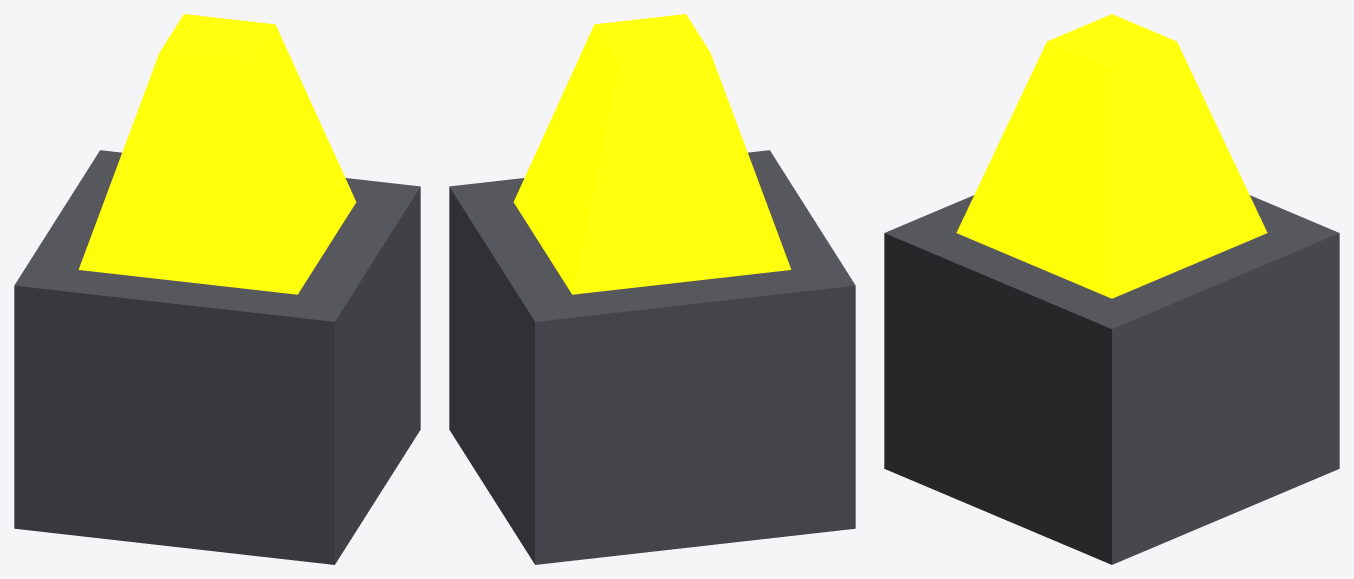
File: tower_buff_lod2.glb
3 views of the same model, side by side, from view 1: azimuth 30°, elevation 25°; view 2: azimuth 150°, elevation 25°; view 3: azimuth 270°, elevation 25° (orthographic). The views are drawn at different scales.
Parts seen in each view (by area): view 1: tower_buff_lod2; view 2: tower_buff_lod2; view 3: tower_buff_lod2.
Boxes of the visible parts, x1,y1,x2,y2 form: tower_buff_lod2: (14, 14, 420, 564); tower_buff_lod2: (449, 14, 855, 564); tower_buff_lod2: (884, 14, 1339, 564).
Bounding box in the file's own units: 0.7 × 0.725 × 0.7.
